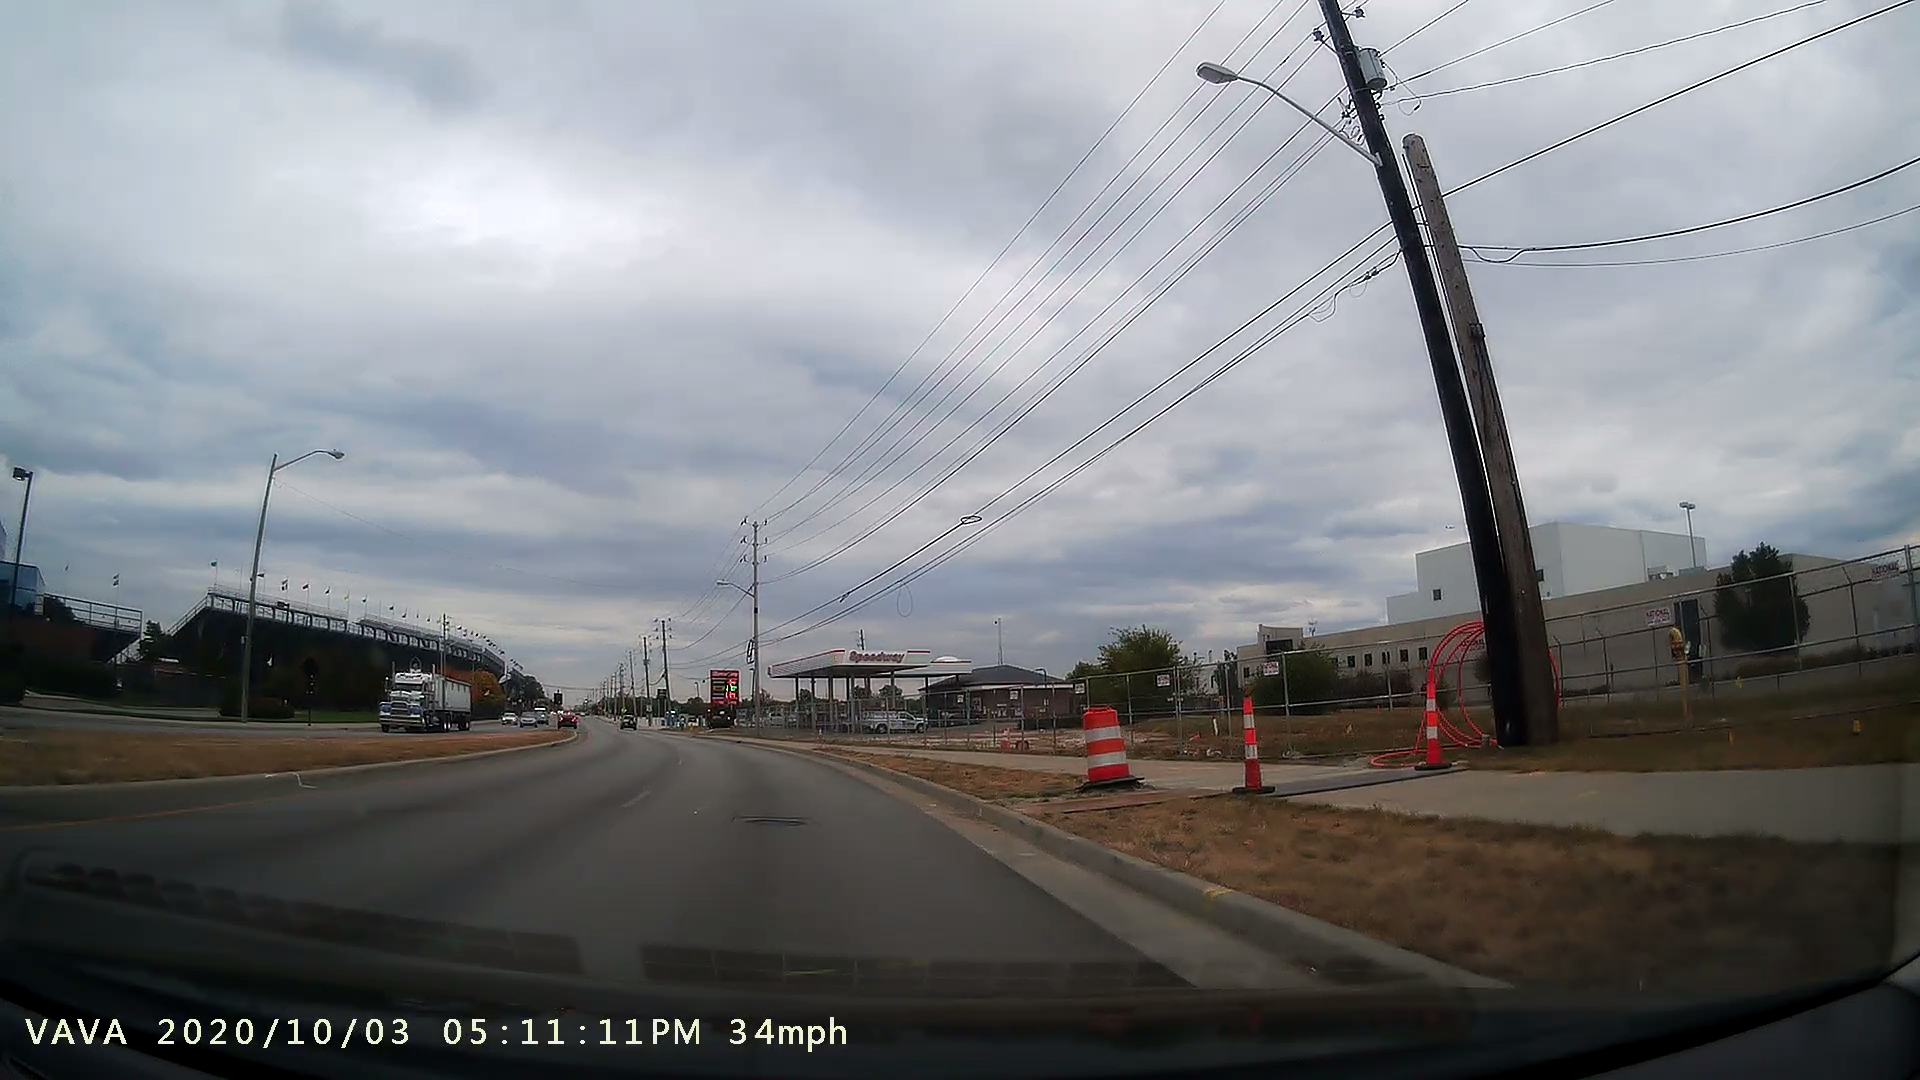const_barrel: (1054, 688, 1153, 803)
const_looper_cone: (1403, 659, 1473, 782), (1221, 688, 1287, 808)
